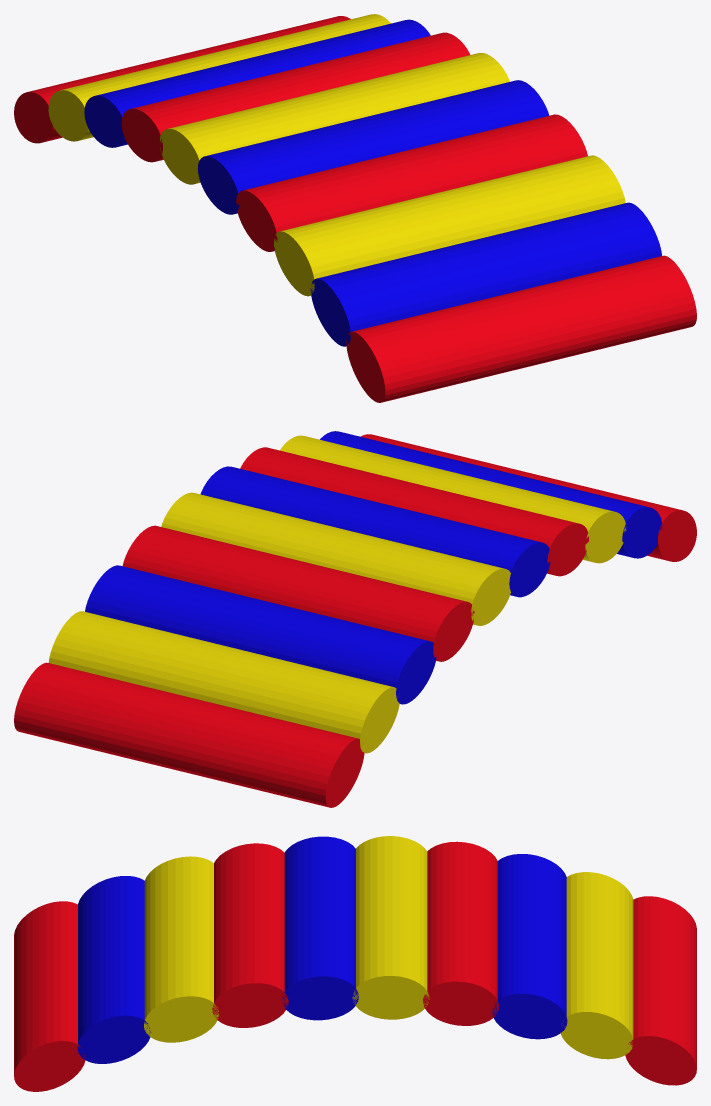
File: パラシュート.fbx
The picture shows the model from 3 angles, top to bottom: view 1: azimuth 30°, elevation 25°; view 2: azimuth 150°, elevation 25°; view 3: azimuth 270°, elevation 25°; orthographic projection. The views are drawn at different scales.
Visible parts, largest first — view 1: Cylinder, Cylinder.001, Cylinder.002, Cylinder.003, Cylinder.004, Cylinder.005, Cylinder.006, Cylinder.007, Cylinder.008, Cylinder.009; view 2: Cylinder.009, Cylinder.008, Cylinder.007, Cylinder.006, Cylinder.005, Cylinder.004, Cylinder.003, Cylinder.002, Cylinder.001, Cylinder; view 3: Cylinder.004, Cylinder.005, Cylinder.003, Cylinder.006, Cylinder.002, Cylinder.007, Cylinder.008, Cylinder.001, Cylinder, Cylinder.009.
Part boxes in pixels (x1,y1,x2,y2): Cylinder: (346,255,696,402); Cylinder.001: (310,202,661,346); Cylinder.002: (274,155,625,296); Cylinder.003: (236,114,587,251); Cylinder.004: (197,80,549,214); Cylinder.005: (160,53,509,184); Cylinder.006: (121,32,470,162); Cylinder.007: (84,19,430,147); Cylinder.008: (48,14,390,141); Cylinder.009: (14,16,350,143); Cylinder.009: (14,662,364,807); Cylinder.008: (48,611,399,753); Cylinder.007: (85,565,436,704); Cylinder.006: (122,525,474,661); Cylinder.005: (161,492,510,625); Cylinder.004: (200,466,550,597); Cylinder.003: (240,447,588,576); Cylinder.002: (280,435,626,563); Cylinder.001: (320,431,662,558); Cylinder: (361,434,696,561); Cylinder.004: (282,836,358,1020); Cylinder.005: (352,836,429,1019); Cylinder.003: (212,843,288,1027); Cylinder.006: (423,841,498,1025); Cylinder.002: (144,856,218,1042); Cylinder.007: (492,854,567,1039); Cylinder.008: (560,872,633,1059); Cylinder.001: (77,876,151,1063); Cylinder: (14,901,85,1091); Cylinder.009: (625,896,696,1085).
Size of the model in its own units: 1366 by 529 by 2821.
